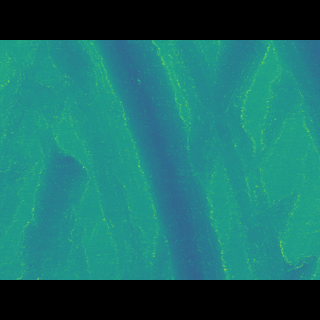Loch: (88, 69, 237, 249), (169, 70, 319, 153), (0, 150, 94, 250)
